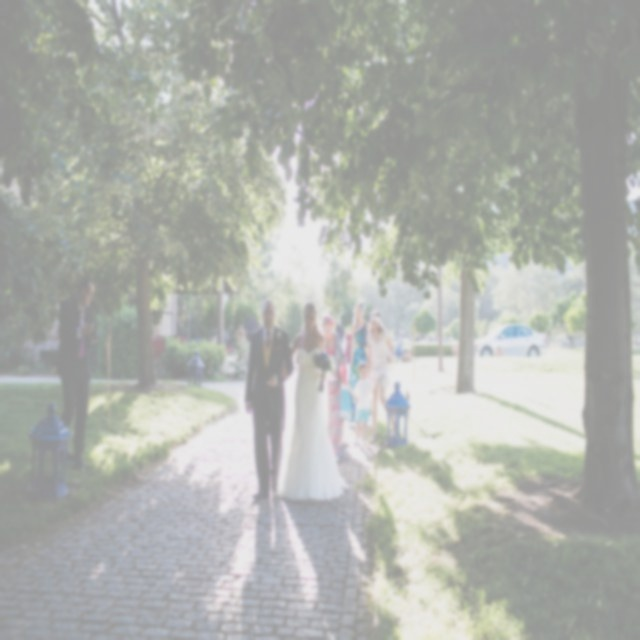pessoa: (239, 419, 453, 639), (277, 298, 351, 504), (242, 295, 296, 505), (51, 272, 97, 478), (363, 306, 400, 448), (319, 314, 348, 464), (346, 300, 371, 425), (352, 360, 375, 448), (338, 362, 358, 448), (332, 311, 352, 361), (388, 330, 408, 361)
